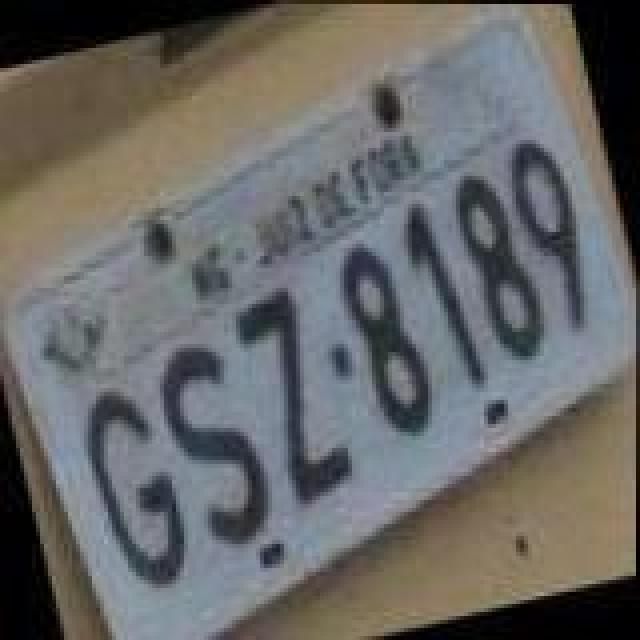1: (398, 194, 494, 394)
8: (334, 232, 446, 444), (446, 162, 558, 370)
9: (496, 130, 604, 342)
G: (74, 376, 202, 600)
S: (146, 334, 282, 558)
Z: (226, 280, 362, 516)
